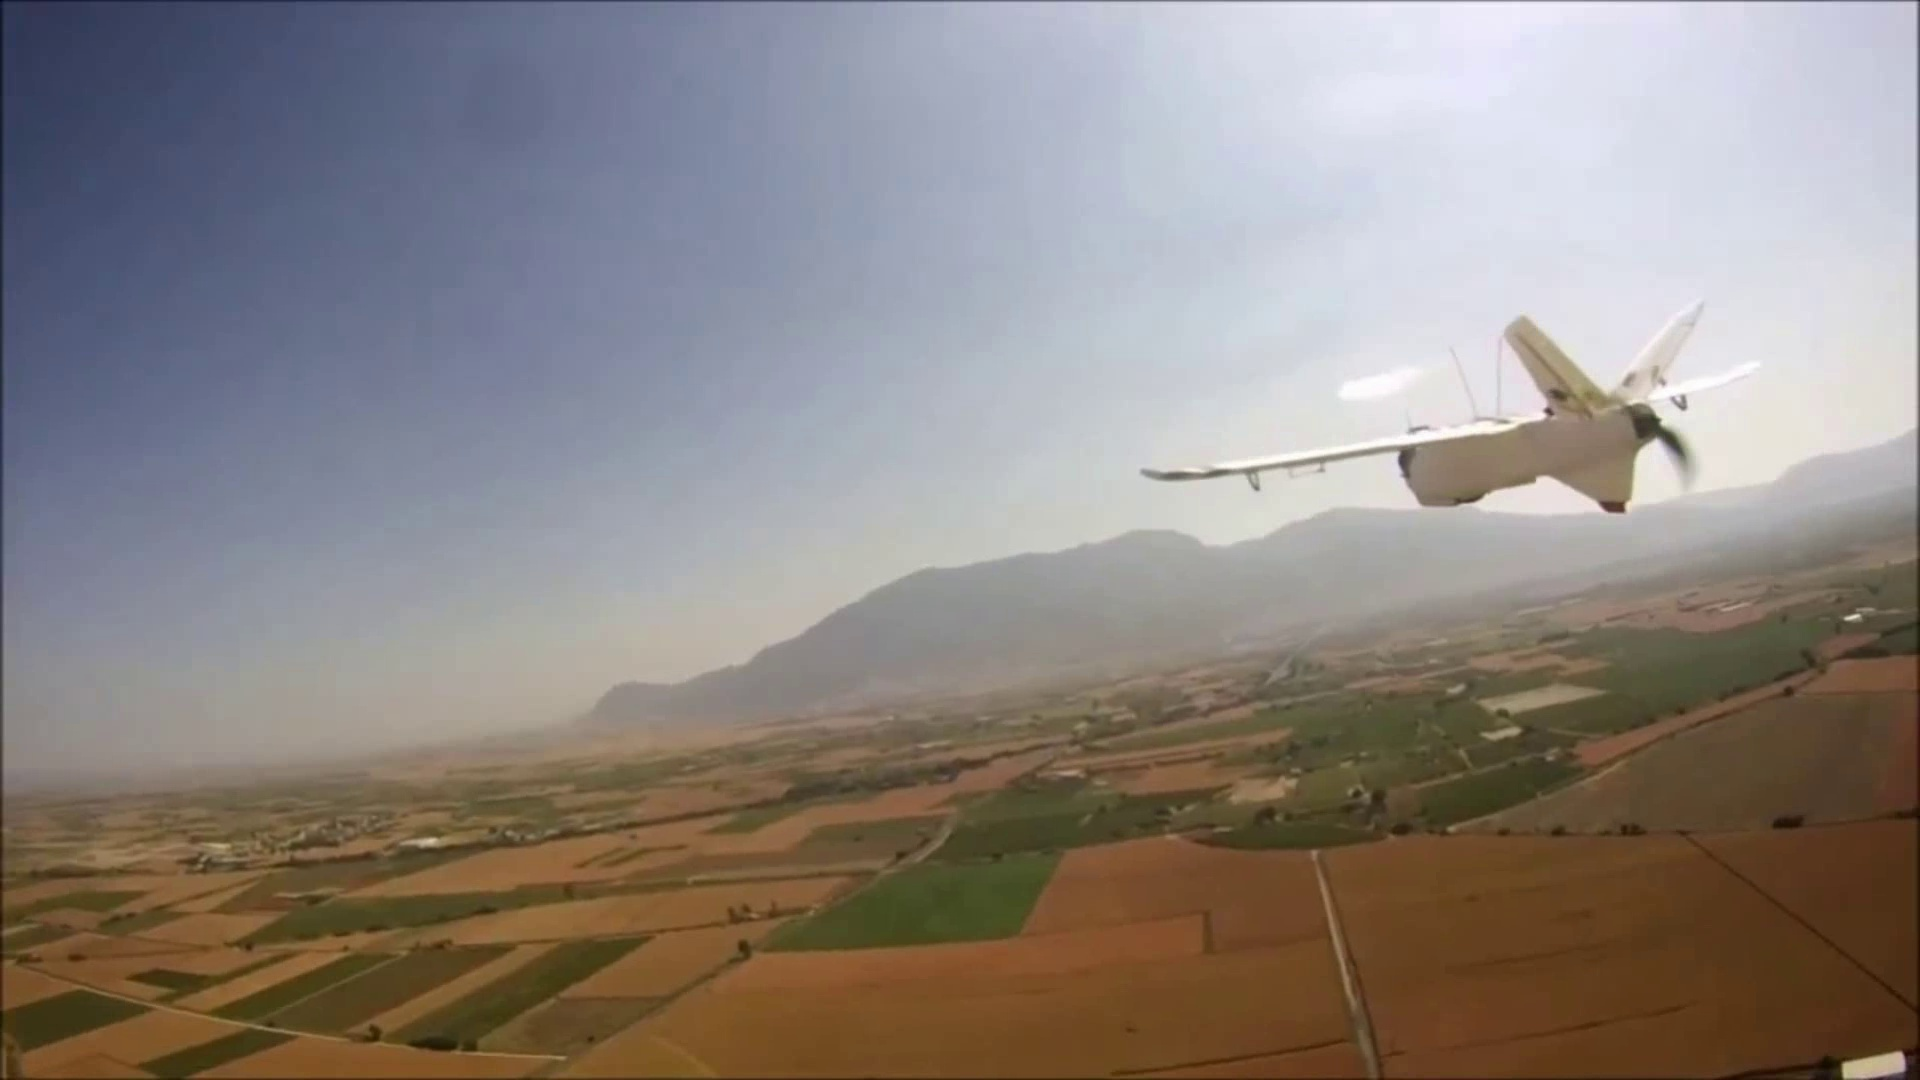airplane: (1141, 299, 1764, 518)
